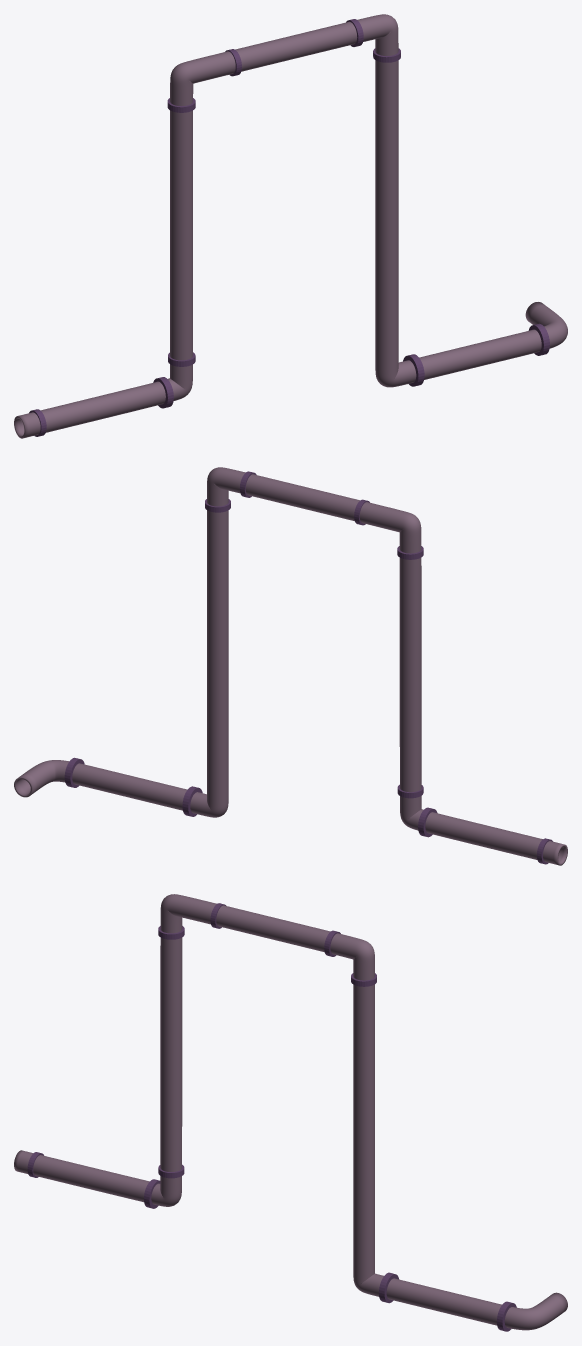
Rendered from pipe3.fbx.
The picture shows the model from 3 angles, top to bottom: view 1: azimuth 30°, elevation 25°; view 2: azimuth 150°, elevation 25°; view 3: azimuth 330°, elevation 25°; orthographic projection. The views are drawn at different scales.
Parts seen in each view (by area): view 1: NURBSパス.003; view 2: NURBSパス.003; view 3: NURBSパス.003.
Part boxes in pixels (x1,y1,x2,y2): NURBSパス.003: [14, 14, 567, 438]; NURBSパス.003: [14, 467, 567, 865]; NURBSパス.003: [14, 894, 567, 1330].
Bounding box in the file's own units: 13.19 × 8.61 × 1.53.
